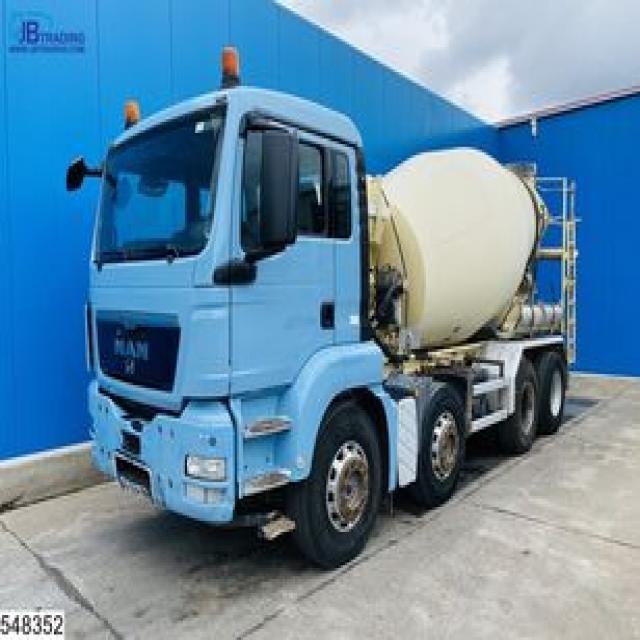Mixer Truck: (64, 43, 583, 571)
